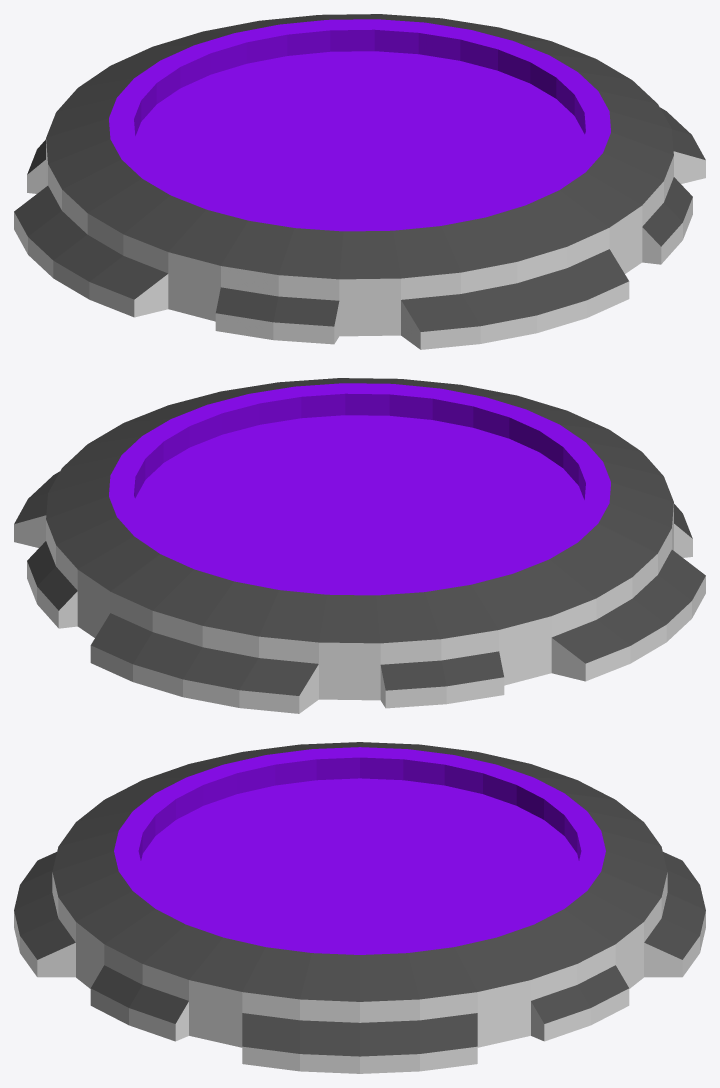
File: Button Plate.dae
The picture shows the model from 3 angles, top to bottom: view 1: azimuth 30°, elevation 25°; view 2: azimuth 150°, elevation 25°; view 3: azimuth 270°, elevation 25°; orthographic projection. The views are drawn at different scales.
Visible parts, largest first — view 1: Cylinder; view 2: Cylinder; view 3: Cylinder.
Part boxes in pixels (x1,y1,x2,y2): Cylinder: [14, 14, 705, 349]; Cylinder: [14, 378, 705, 713]; Cylinder: [14, 742, 705, 1073].
Size of the model in its own units: 4.5 by 4.5 by 0.55.
